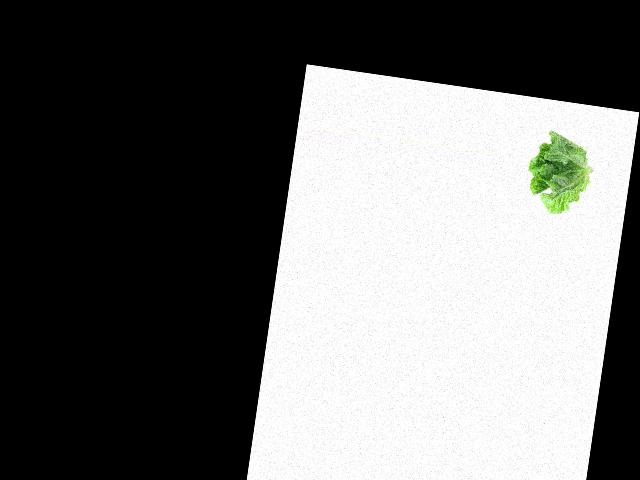lettuce: (523, 127, 595, 217)
